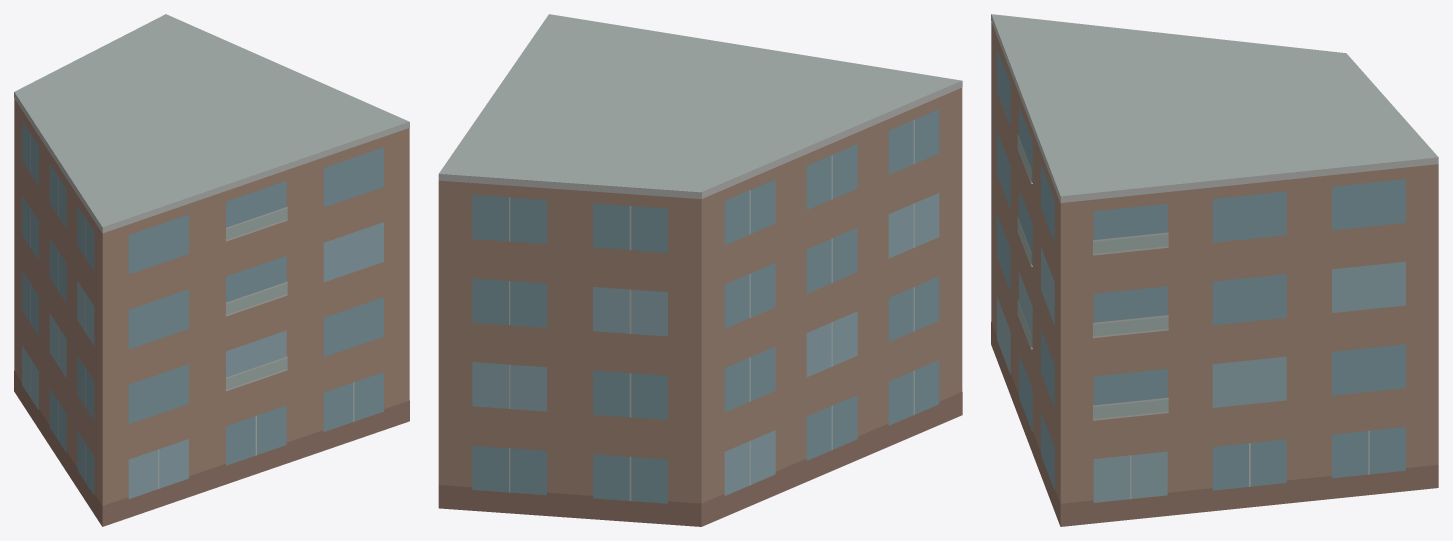
File: survey-upis-32516427.glb
3 views of the same model, side by side, from view 1: azimuth 30°, elevation 25°; view 2: azimuth 150°, elevation 25°; view 3: azimuth 270°, elevation 25° (orthographic). The views are drawn at different scales.
Visible parts, largest first — view 1: survey-upis-32516427.tmp; view 2: survey-upis-32516427.tmp; view 3: survey-upis-32516427.tmp.
Boxes of the visible parts, x1,y1,x2,y2 form: survey-upis-32516427.tmp: (14,14,409,526); survey-upis-32516427.tmp: (438,14,962,526); survey-upis-32516427.tmp: (991,14,1438,526).
Bounding box in the file's own units: 14.21 × 12 × 14.74.
